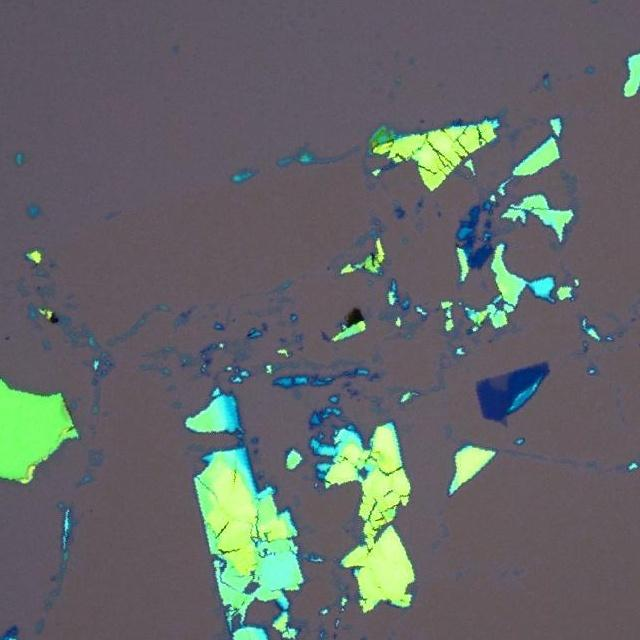monolayer-eWW4: (489, 372, 508, 390), (500, 416, 509, 427)
